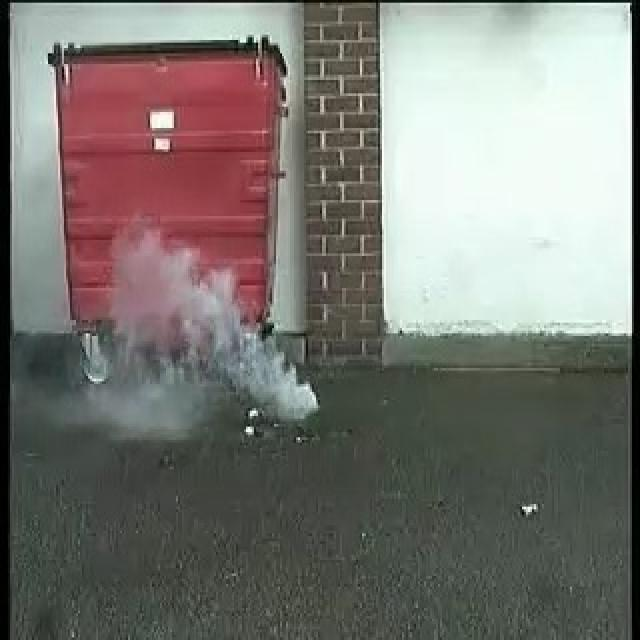Smoke: (118, 234, 316, 416)
